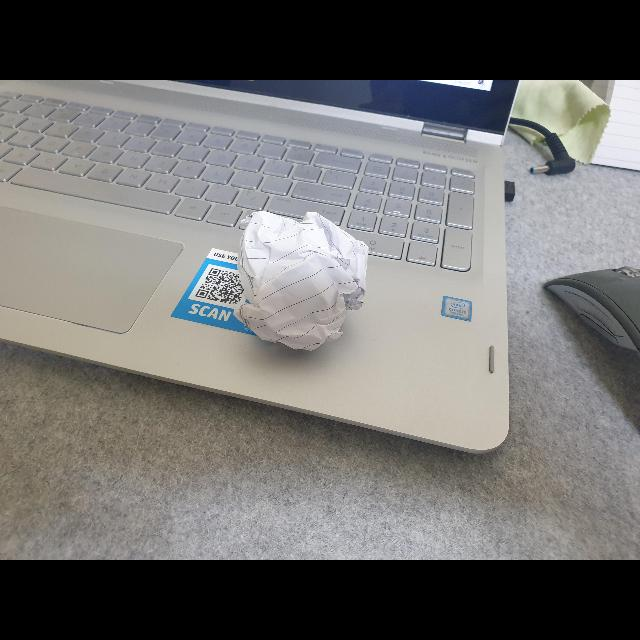scrap_paper: (216, 198, 378, 358)
